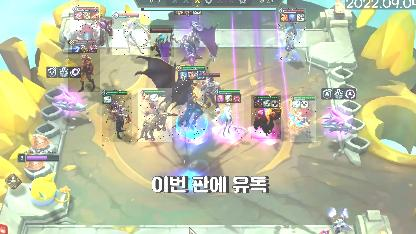1_bard: (251, 95, 281, 139)
1_graves: (148, 25, 174, 57)
1_rell: (138, 88, 172, 142)
1_seraphine: (290, 96, 316, 142)
2_aphelios: (102, 90, 132, 142)
2_nilah: (278, 8, 306, 62)
2_qiyana: (112, 11, 150, 55)
2_rengar: (70, 5, 100, 49)
2_soraka: (214, 89, 244, 139)
3_diana: (68, 40, 100, 92)
3_swain: (172, 66, 208, 140)
